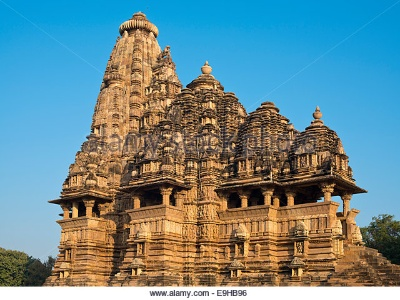amalaka: (107, 15, 165, 40)
gopuram: (94, 36, 184, 150), (229, 107, 305, 165)
mandapa: (281, 170, 360, 214), (119, 175, 194, 217), (45, 183, 110, 229), (213, 173, 279, 215)
